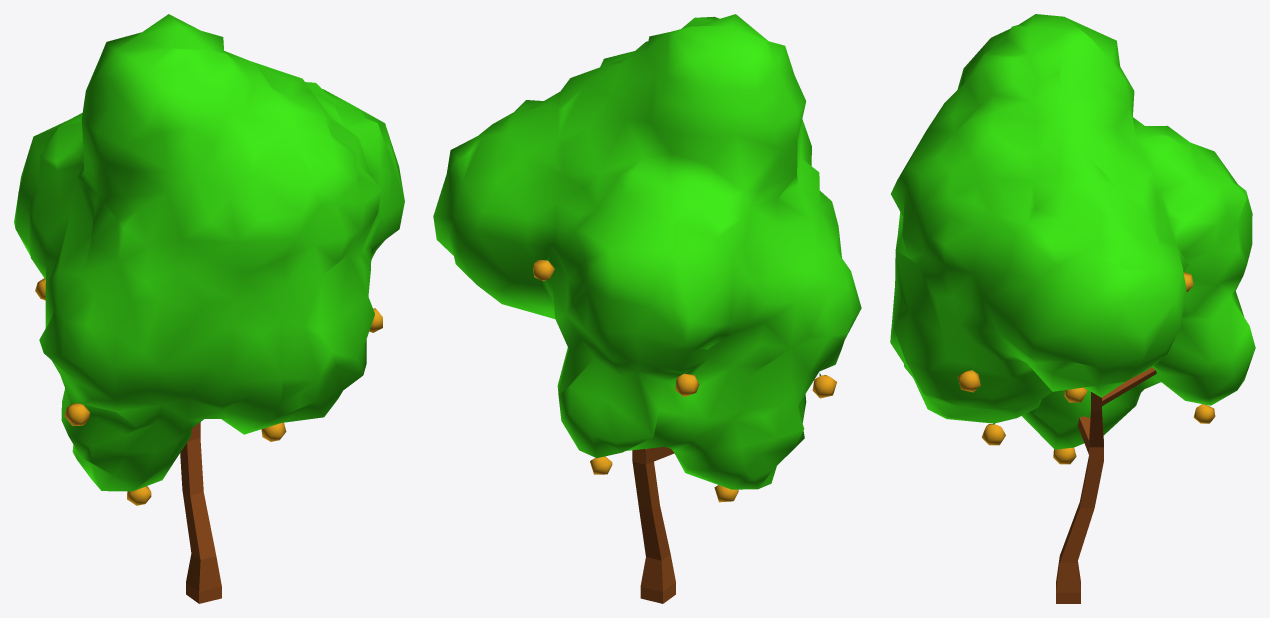
Rendered from SM_OrangeTree_001_LOD2.fbx.
3 renders of one model, left to right at view 1: azimuth 30°, elevation 25°; view 2: azimuth 150°, elevation 25°; view 3: azimuth 270°, elevation 25°, orthographic. The views are drawn at different scales.
Visible parts, largest first — view 1: OrangeTree_01; view 2: OrangeTree_01; view 3: OrangeTree_01.
Boxes of the visible parts, x1=… form: OrangeTree_01: x1=14, y1=14, x2=404, y2=603; OrangeTree_01: x1=433, y1=14, x2=861, y2=603; OrangeTree_01: x1=890, y1=14, x2=1255, y2=603.
Bounding box in the file's own units: 217 × 322 × 193.
